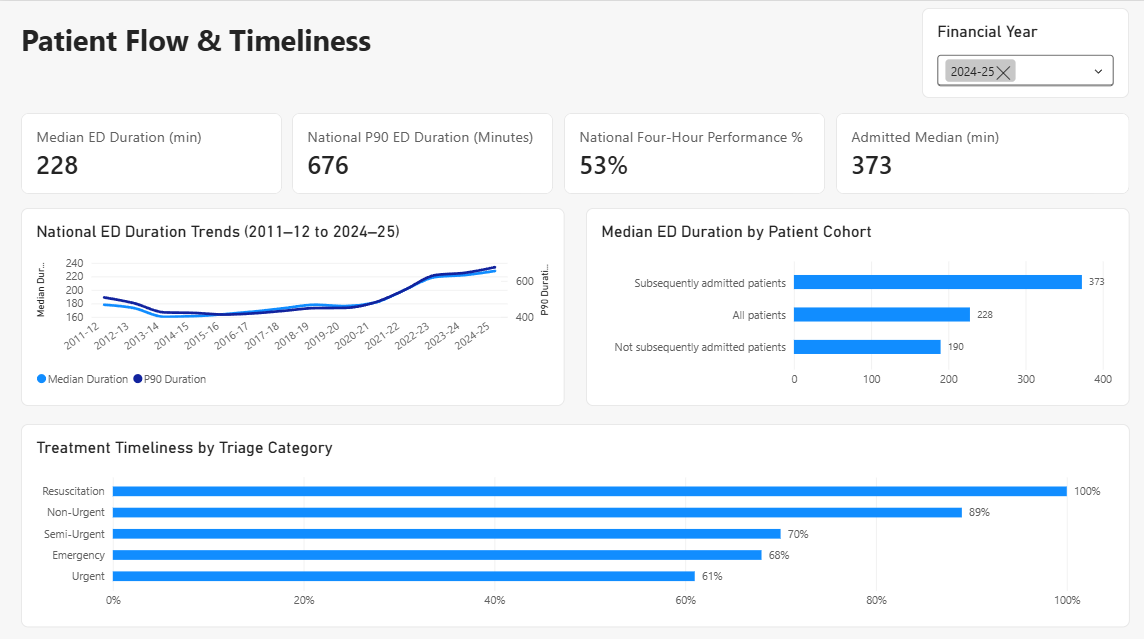

This screenshot's page, from the dashboard's own definition file:
{"tool":"powerbi","page":{"name":"Patient Flow & Timeliness","canvas":[1280,720],"ordinal":1},"visuals":[{"type":"textbox","box":[24,20,850,55],"z":0},{"type":"listSlicer","fields":{"Values":["Dim_FinancialYear.Financial Year"]},"box":[1026,8,230,100],"z":1000},{"type":"cardVisual","fields":{"Data":["ED_Duration.National Median ED Duration (Minutes)"]},"box":[24,124,290,90],"z":2000},{"type":"cardVisual","fields":{"Data":["ED_Duration.National P90 ED Duration (Minutes)"]},"box":[326,124,290,90],"z":3000},{"type":"cardVisual","fields":{"Data":["ED_FourHour.National Four-Hour Performance %"]},"box":[628,124,290,90],"z":4000},{"type":"cardVisual","fields":{"Data":["ED_Duration.Admitted Patient Median ED Duration (Minutes)"]},"box":[930,124,326,90],"z":5000},{"type":"lineChart","title":"National ED Duration Trends (2011–12 to 2024–25)","fields":{"Category":["Dim_FinancialYear.Financial Year"],"Y":["ED_Duration.National Median ED Duration (Minutes)"],"Y2":["ED_Duration.National P90 ED Duration (Minutes)"]},"box":[24.3,230,604,220],"z":6000},{"type":"clusteredBarChart","title":"Median ED Duration by Patient Cohort","fields":{"Category":["ED_Duration.patient_cohort"],"Y":["ED_Duration.National Cohort Median Duration"]},"box":[652,230,604,220],"z":7000},{"type":"clusteredBarChart","title":"Treatment Timeliness by Triage Category ","fields":{"Category":["ED_WaitingTimes.triage_category"],"Y":["ED_WaitingTimes.National Seen On Time %"]},"box":[24,470,1232,226],"z":8000}]}

Visuals, with their boxes in screenshot pixels (x1, y1, x2, y2), scaled from the page's 1280x720 canvas onto the 1144x639 screenshot:
textbox: pyautogui.locateOnScreen(21, 18, 781, 67)
listSlicer - Dim_FinancialYear.Financial Year: pyautogui.locateOnScreen(917, 7, 1123, 96)
cardVisual - ED_Duration.National Median ED Duration (Minutes): pyautogui.locateOnScreen(21, 110, 281, 190)
cardVisual - ED_Duration.National P90 ED Duration (Minutes): pyautogui.locateOnScreen(291, 110, 551, 190)
cardVisual - ED_FourHour.National Four-Hour Performance %: pyautogui.locateOnScreen(561, 110, 820, 190)
cardVisual - ED_Duration.Admitted Patient Median ED Duration (Minutes): pyautogui.locateOnScreen(831, 110, 1123, 190)
"National ED Duration Trends (2011–12 to 2024–25)" lineChart: pyautogui.locateOnScreen(22, 204, 562, 399)
"Median ED Duration by Patient Cohort" clusteredBarChart: pyautogui.locateOnScreen(583, 204, 1123, 399)
"Treatment Timeliness by Triage Category " clusteredBarChart: pyautogui.locateOnScreen(21, 417, 1123, 618)
